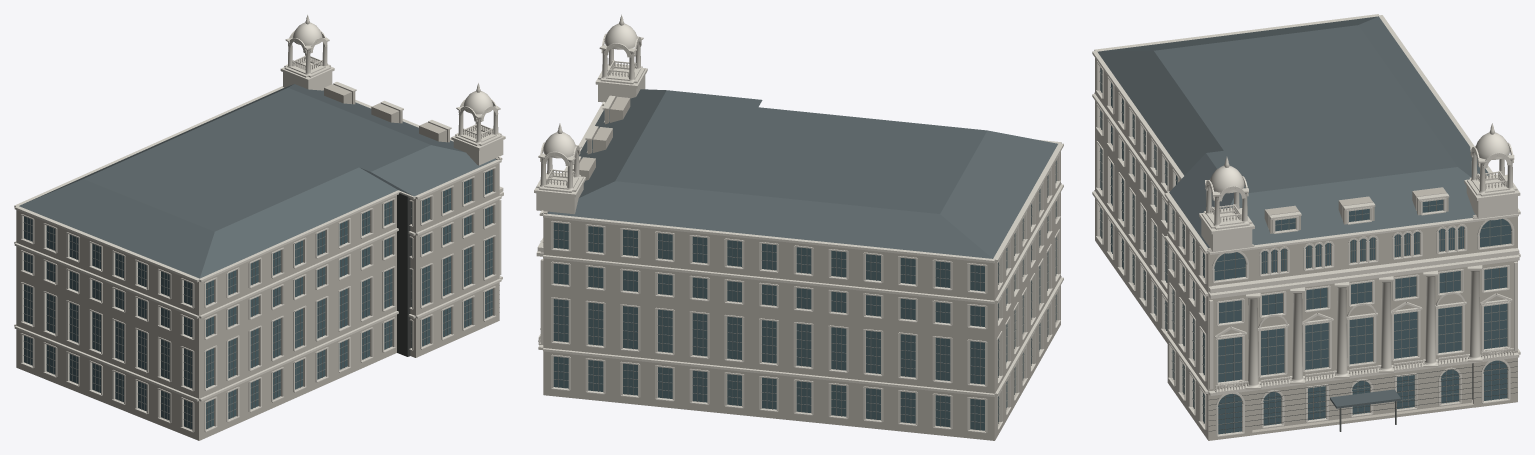
The model's file is bund02.glb.
3 views of the same model, side by side, from view 1: azimuth 30°, elevation 25°; view 2: azimuth 150°, elevation 25°; view 3: azimuth 270°, elevation 25° (orthographic). The views are drawn at different scales.
Size of the model in its own units: 65.25 by 35 by 49.
